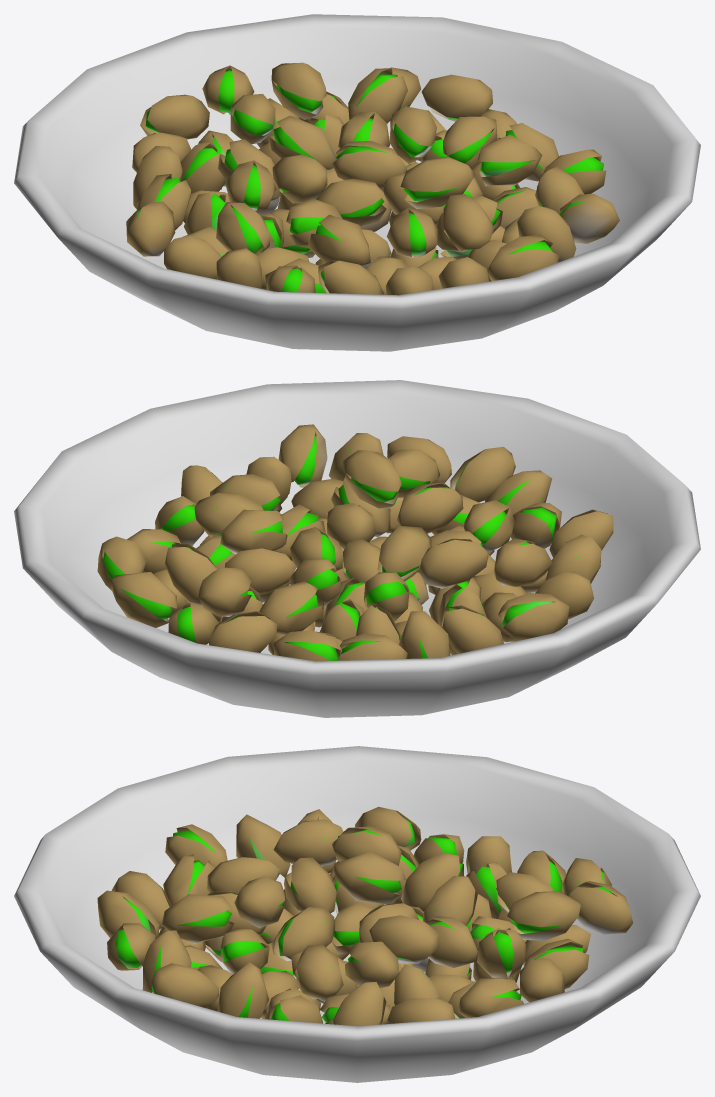
The model's file is 3D_PISTACHE.fbx.
3 views of the same model, one above another, from view 1: azimuth 30°, elevation 25°; view 2: azimuth 150°, elevation 25°; view 3: azimuth 270°, elevation 25° (orthographic).
Visible parts, largest first — view 1: Sphere.001; view 2: Sphere.001; view 3: Sphere.001.
Part boxes in pixels (left/top/right/bottom): Sphere.001: left=14, top=14, right=700, bottom=351; Sphere.001: left=14, top=380, right=700, bottom=717; Sphere.001: left=14, top=746, right=700, bottom=1082.
Size of the model in its own units: 24.48 by 5.99 by 24.48.
